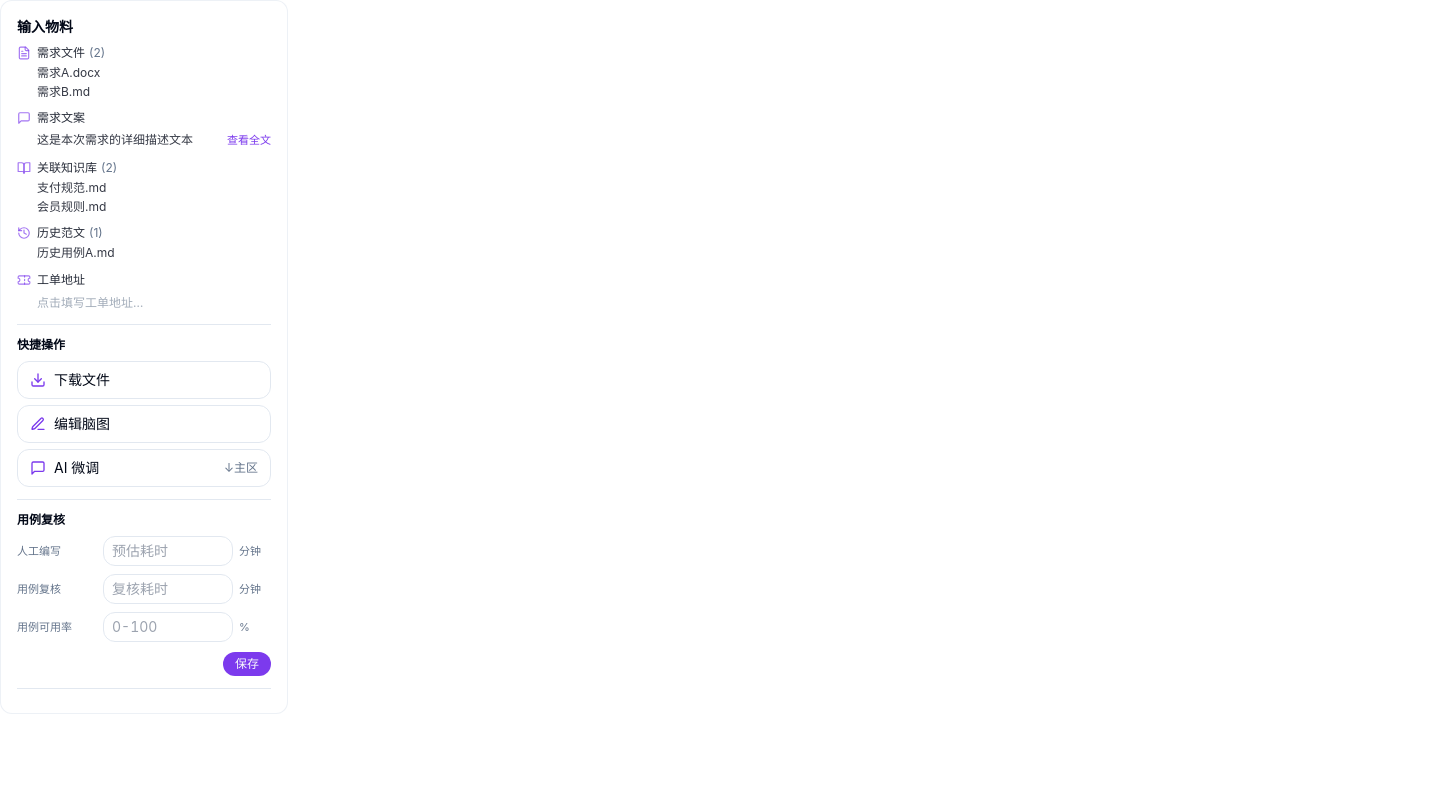
Test: ExecutionPanel › Step 2 complete: materials + quick actions + rating › opens full-text modal when clicking 查看全文
Click the button "查看全文": (249,140) 227,130 -> 271,150
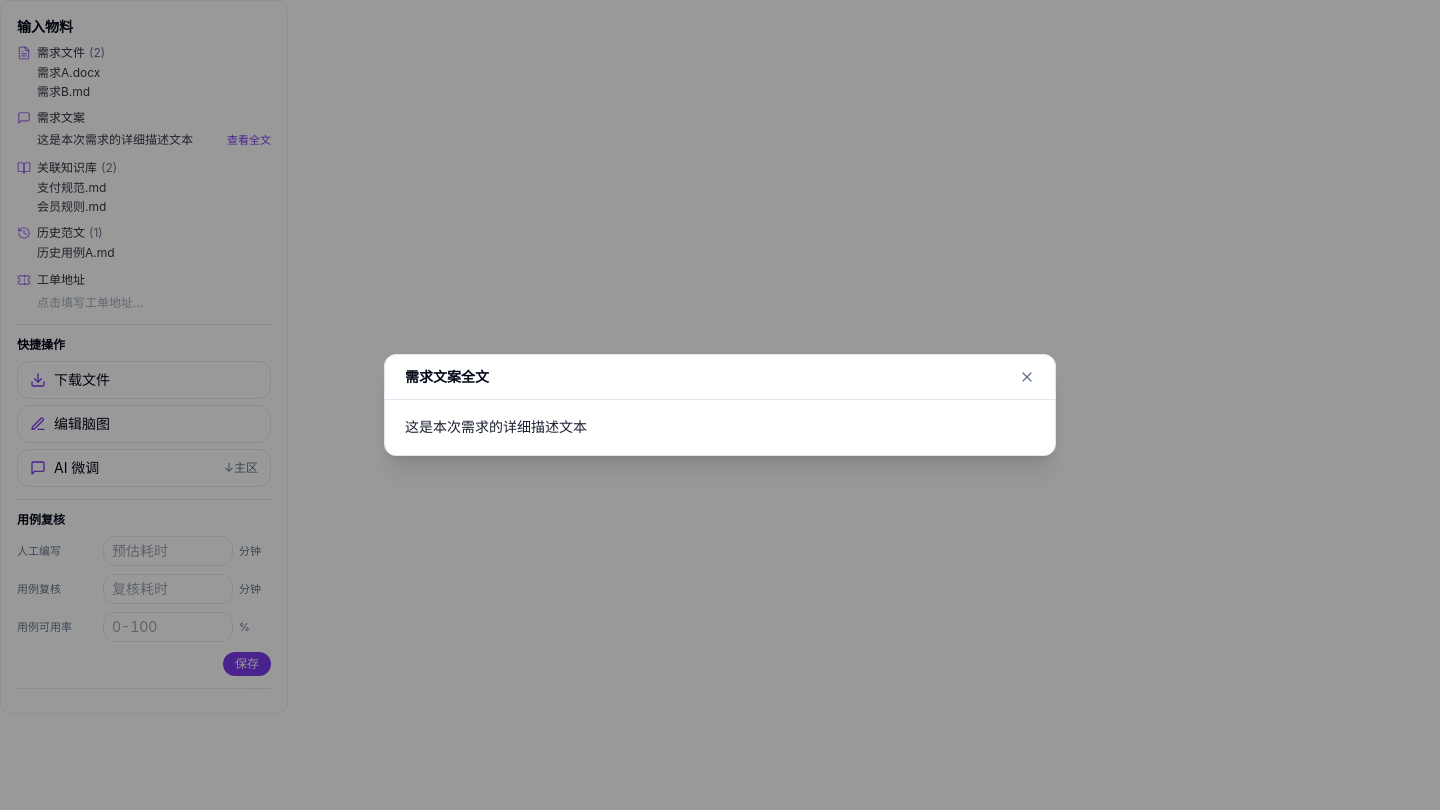
Expected: the dialog is shown, 384,354 -> 1056,456
Expected: the heading "需求文案全文" is shown, 405,367 -> 489,387
